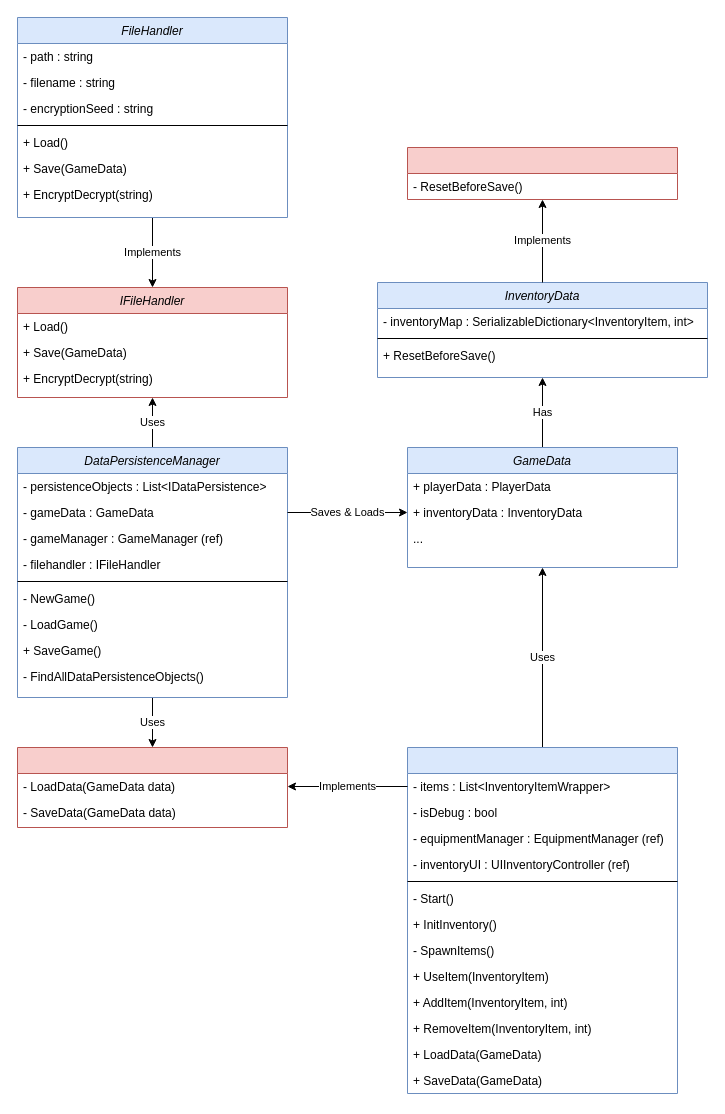
The diagram is 725 pixels wide and 1114 high, and some of its shapes have lost their labels. Each missing label, with the box of its shape:
IDataPersistence: (16, 746, 288, 828)
InventoryManager: (406, 746, 678, 1094)
SaveData: (406, 146, 678, 200)
